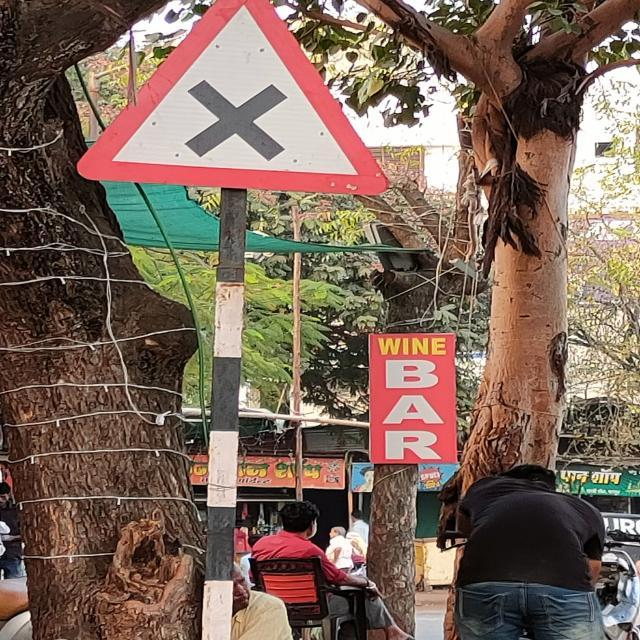cross road: (68, 10, 396, 196)
